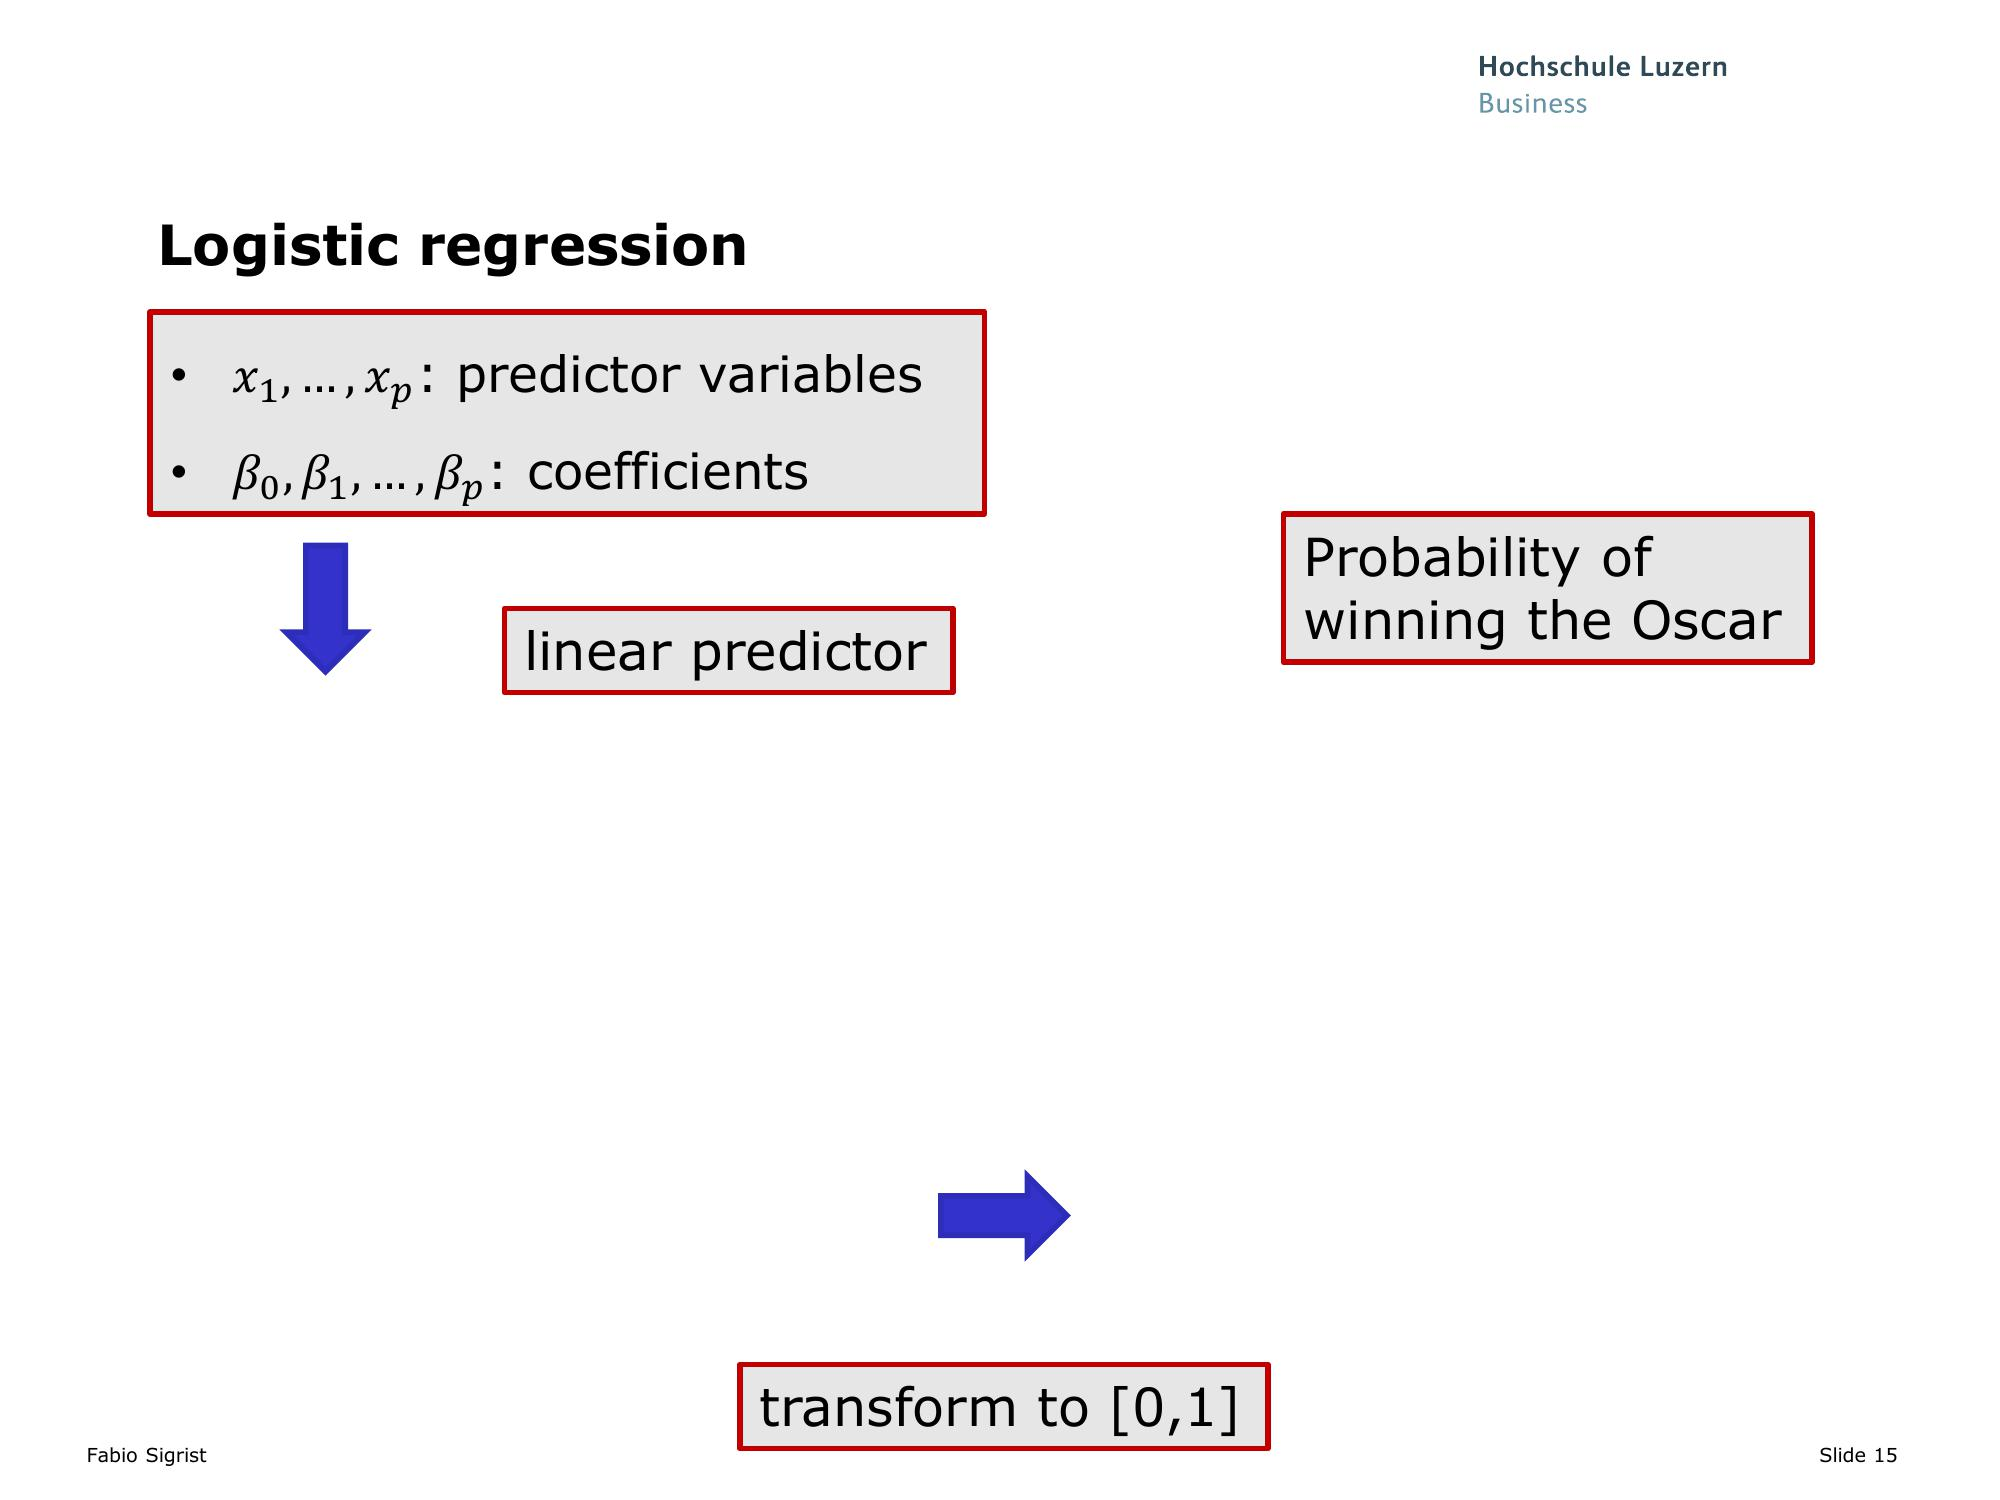Title: (131, 211, 802, 284)
